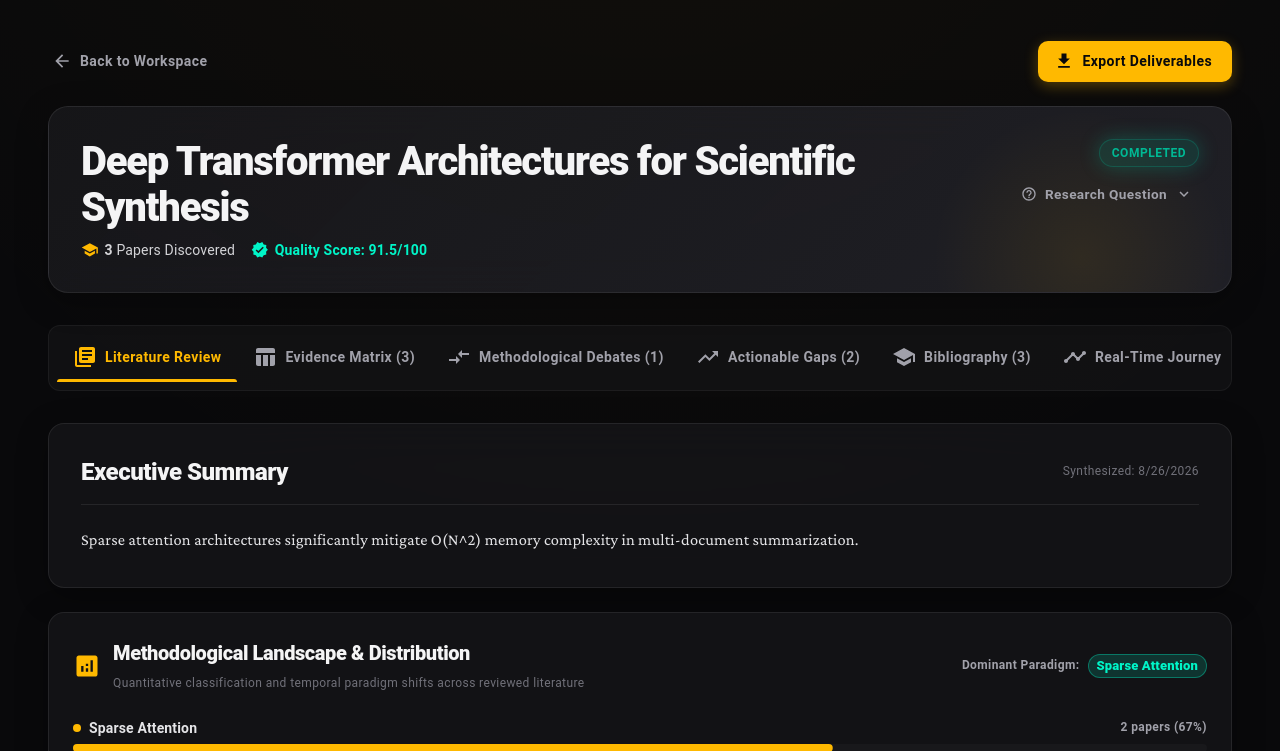
ProjectDetailsPage Empirical Challenger Test Suite › 4. Full Report State Verification across all 6 Tabs › Tab 2 (Methodological Debates): renders Perspective A vs B cards and Critical Evaluation
Expected: the heading "Deep Transformer Architectures for Scientific Synthesis" is shown, [81,138,855,231]
Step 1. Click the tab "Methodological Debates (1)" → (556, 358), box [431,334,680,382]
(page scrolled)
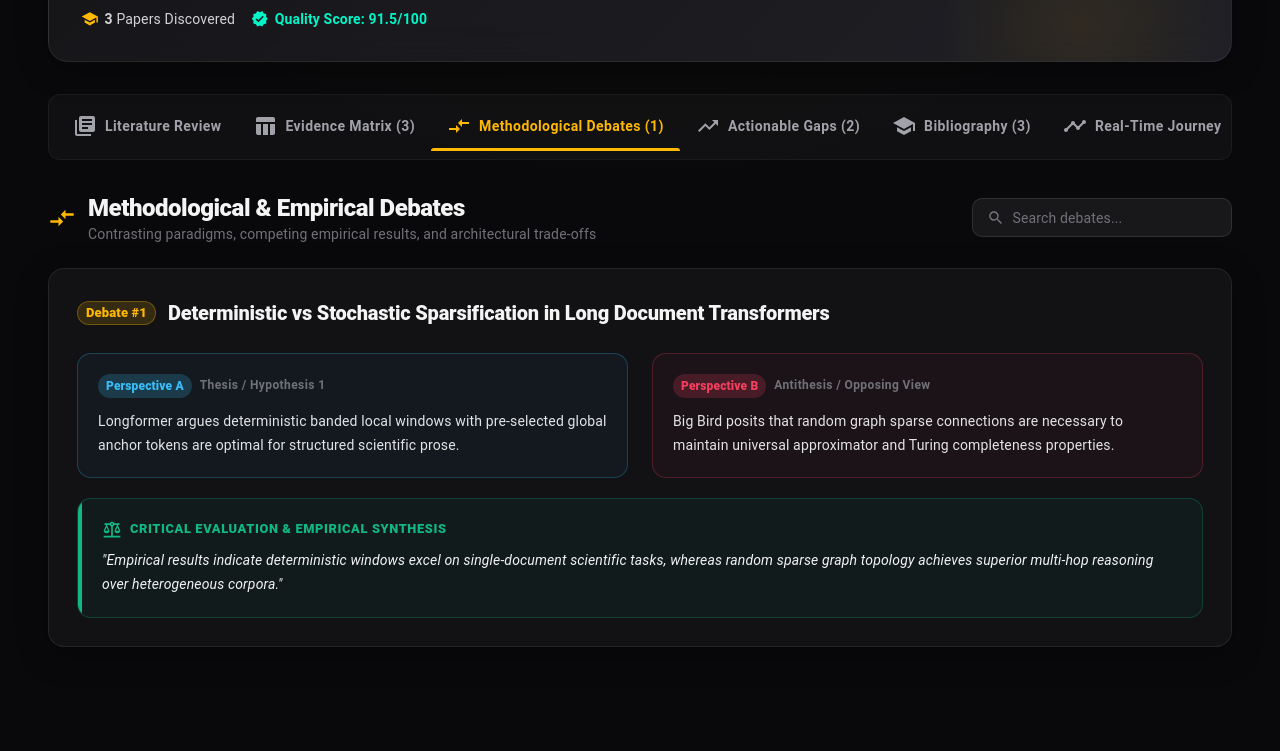
Now the heading "Methodological & Empirical Debates" is shown, box [88,194,465,222]
Now the heading "Deterministic vs Stochastic Sparsification" is shown, box [168,301,830,325]
Now the text "Perspective A" is shown, box [106,379,184,393]
